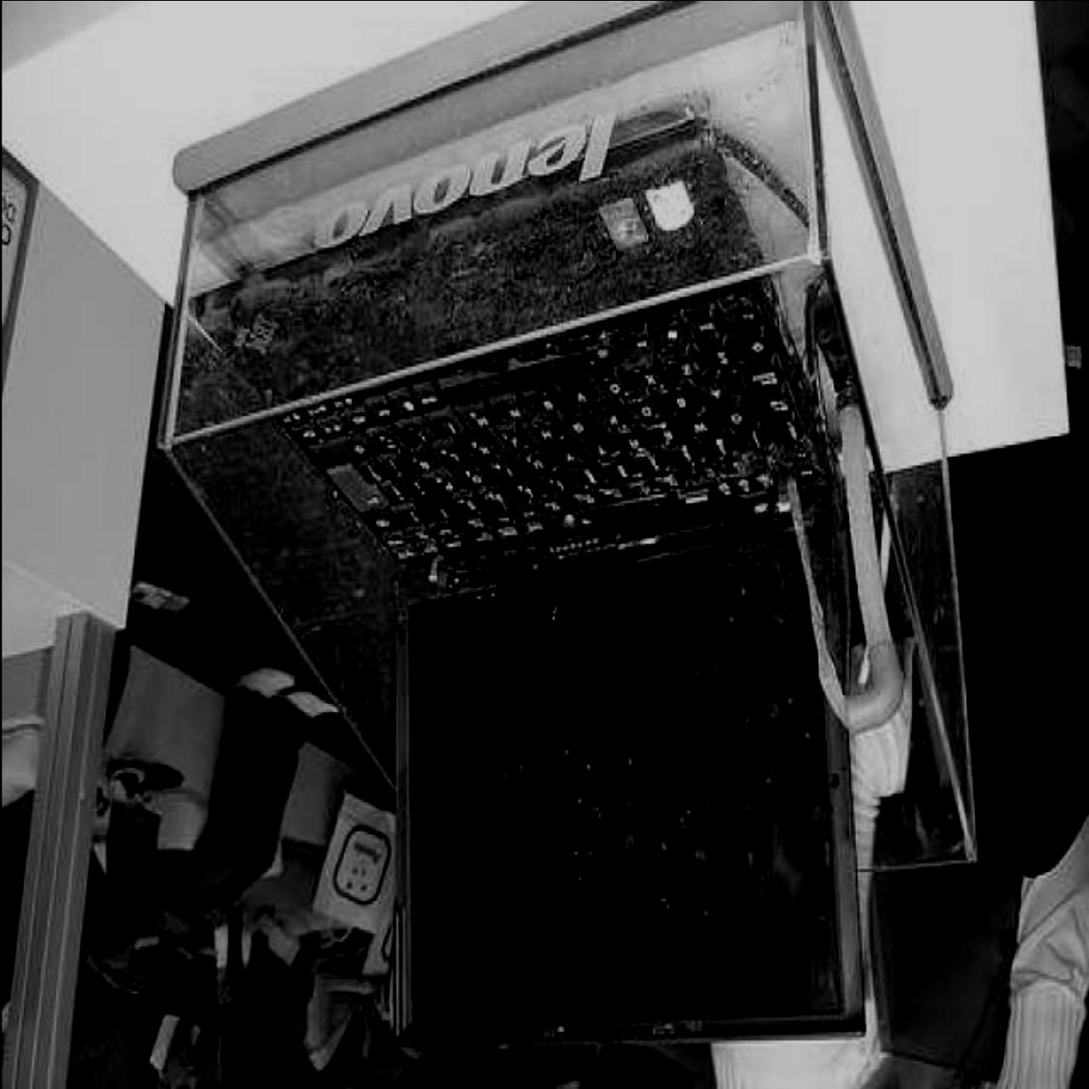laptop: (226, 225, 863, 1027)
